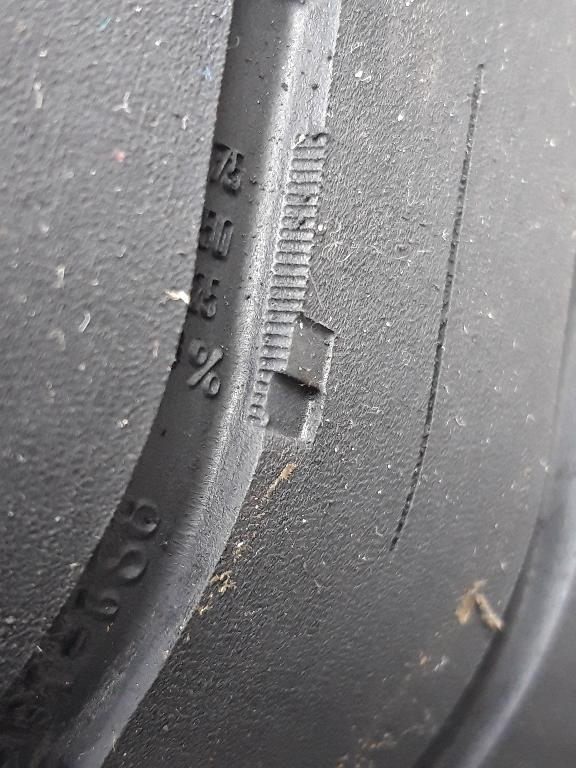temoin:25: (233, 299, 342, 458)
